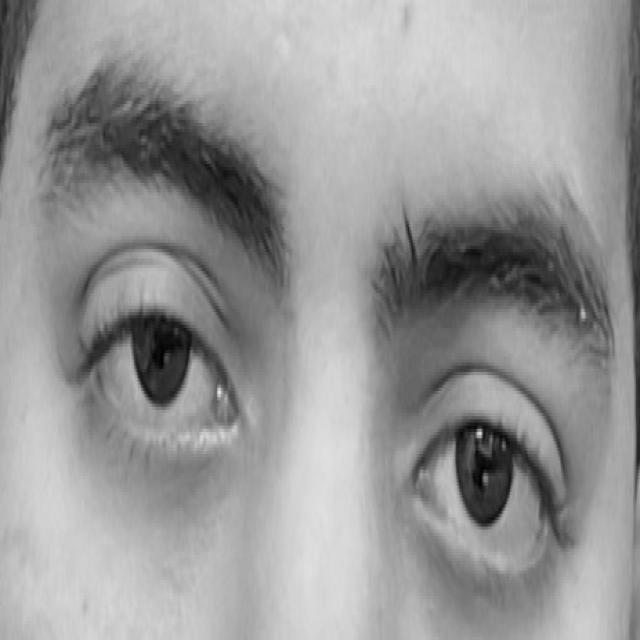real: (44, 66, 610, 620)
